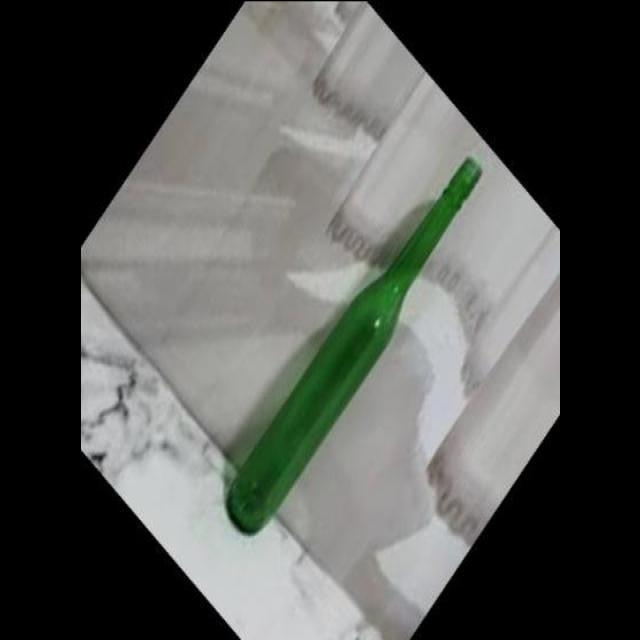Glass: (220, 142, 490, 542)
